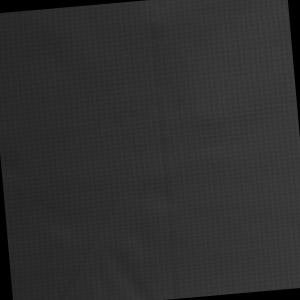Wrinkle: (1, 129, 184, 300)
